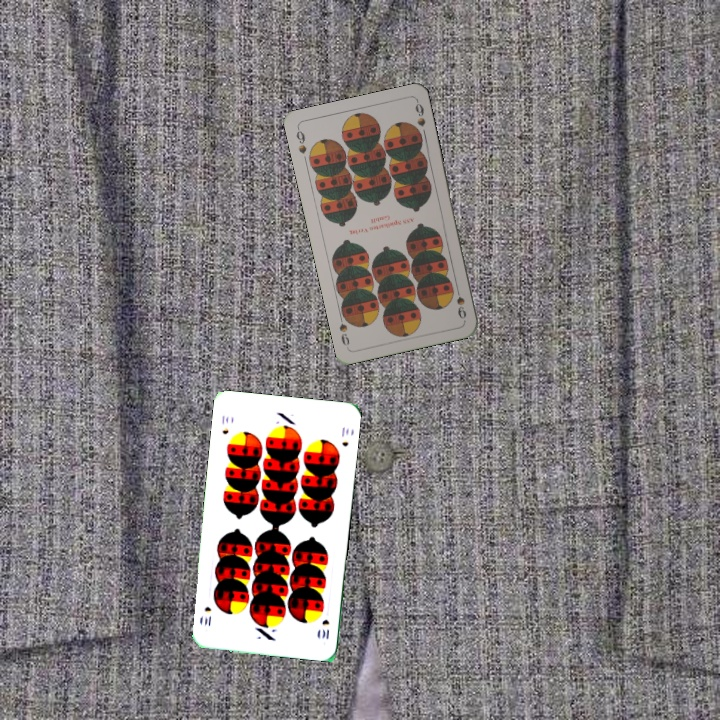S10: (318, 615, 332, 641), (218, 411, 231, 437)
S9: (452, 282, 469, 321), (292, 124, 309, 156)
